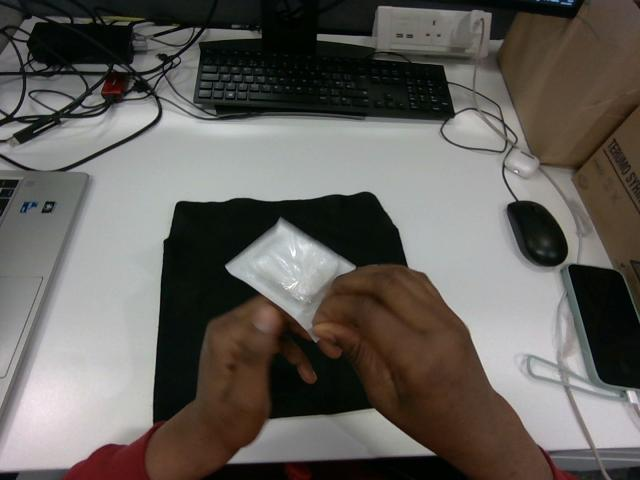gauze: (226, 218, 354, 331)
